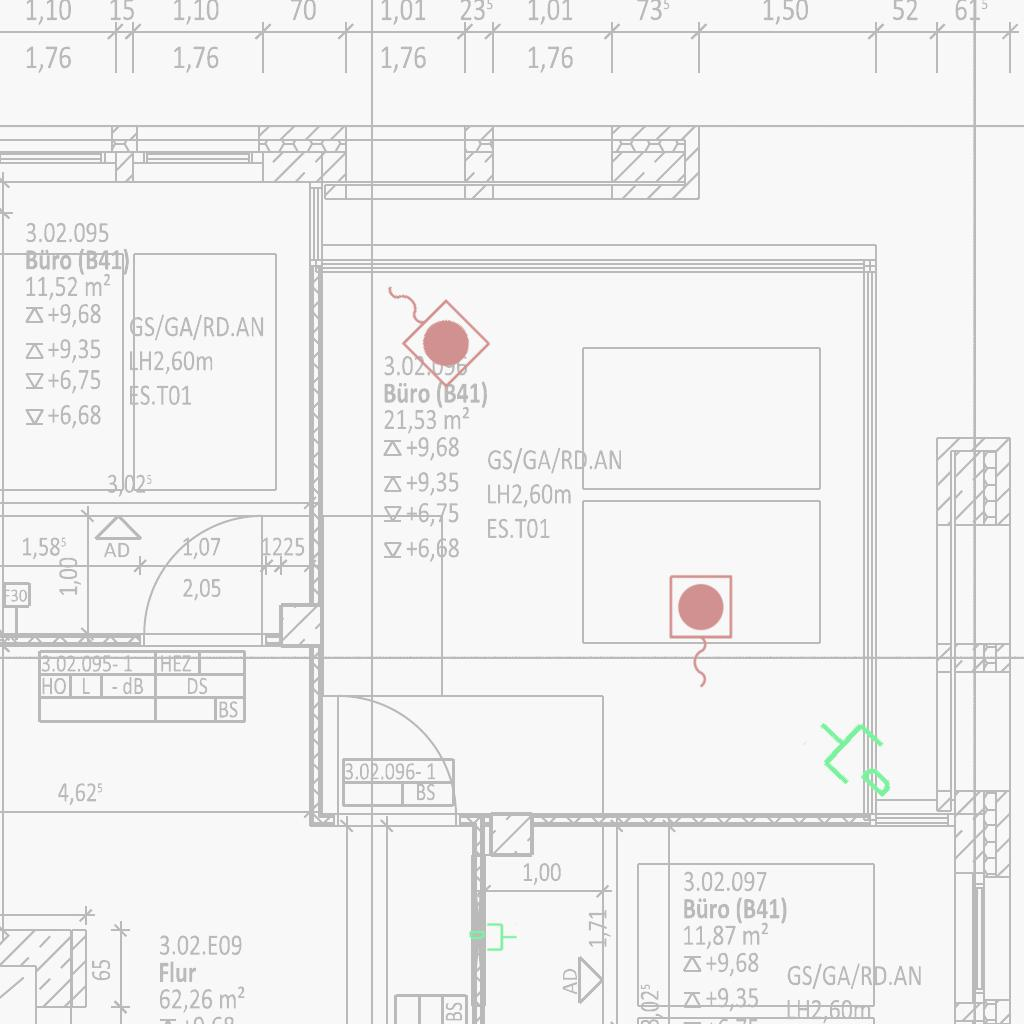Datenanschluss_einfach: (797, 695, 918, 815), (468, 921, 518, 955)
Zugtaster: (360, 256, 498, 394), (664, 571, 736, 693)
